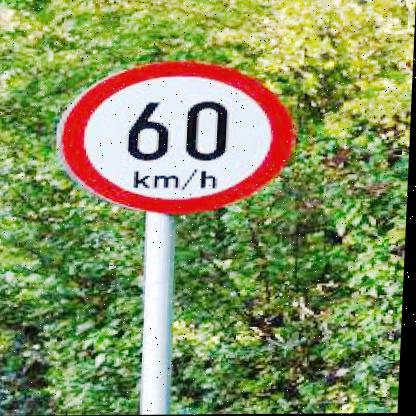Speed Limit -60-: (57, 57, 304, 208)
